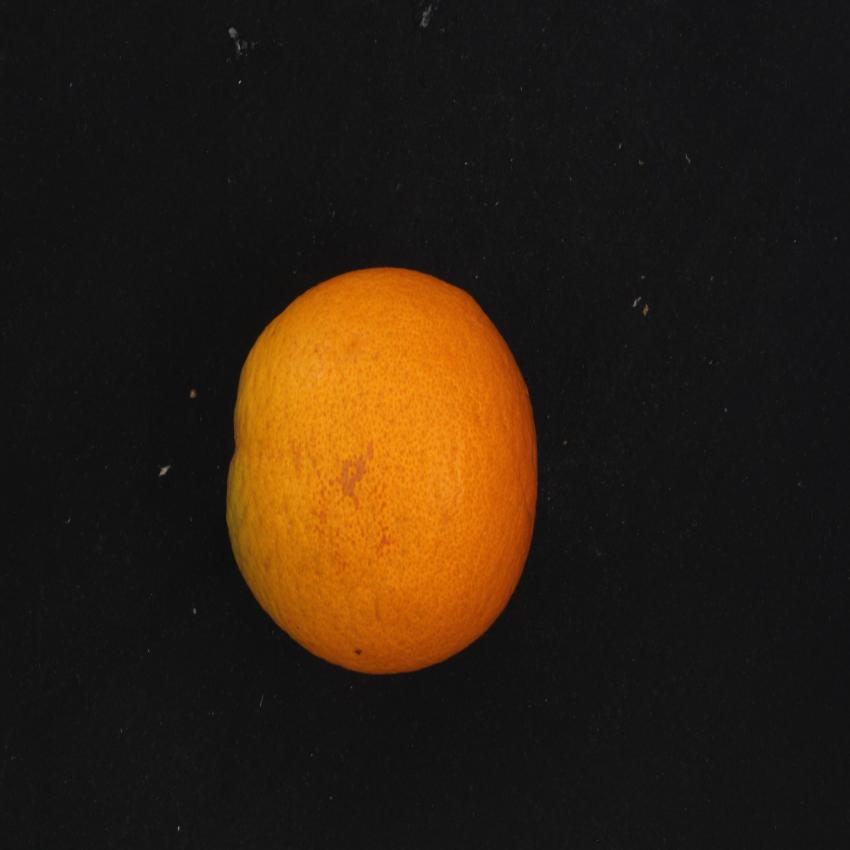Buen estado: (212, 252, 551, 691)
